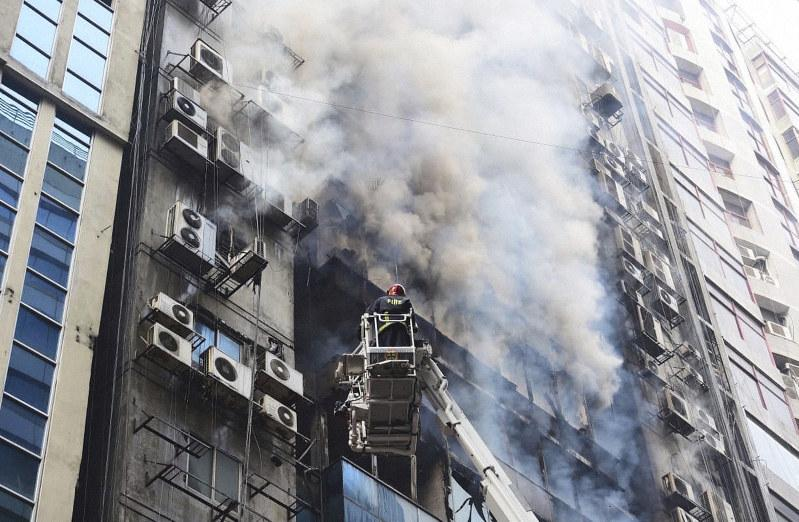smoke: (203, 1, 598, 201), (446, 201, 648, 522), (351, 202, 445, 296), (649, 428, 708, 478), (314, 325, 349, 366), (213, 201, 265, 228), (416, 398, 438, 445)
